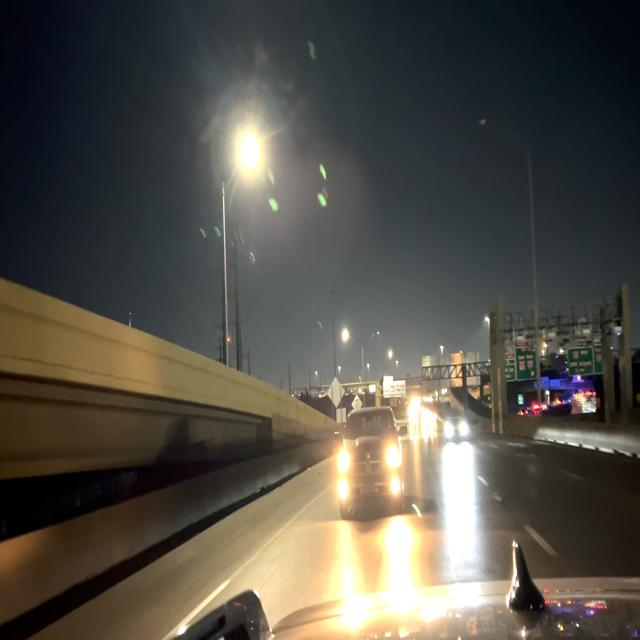back-of-sign: (328, 377, 346, 406), (338, 408, 345, 423)
